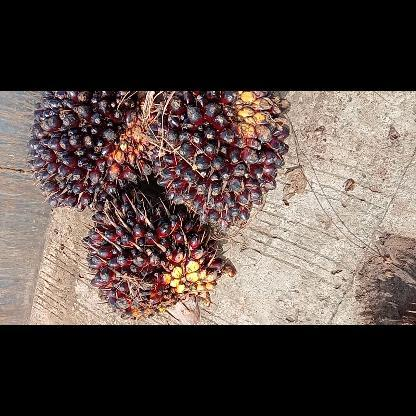TBS mentah: (143, 91, 293, 230), (80, 194, 235, 320), (25, 91, 165, 212)
